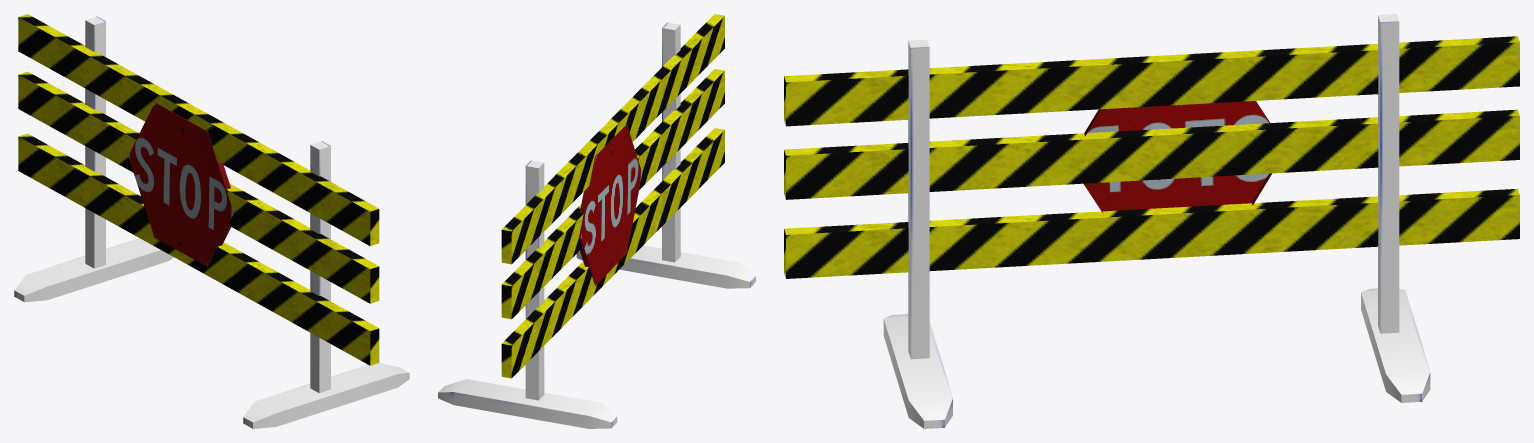
Rendered from road barrier C.FBX.
The picture shows the model from 3 angles, left to right: view 1: azimuth 30°, elevation 25°; view 2: azimuth 150°, elevation 25°; view 3: azimuth 270°, elevation 25°; orthographic projection. The views are drawn at different scales.
Visible parts, largest first — view 1: Box002, Cylinder001; view 2: Box002, Cylinder001; view 3: Box002, Cylinder001.
Boxes of the visible parts, bbox=[...] form: Box002: bbox=[14, 14, 409, 428]; Cylinder001: bbox=[128, 102, 233, 266]; Box002: bbox=[438, 14, 755, 428]; Cylinder001: bbox=[579, 124, 642, 285]; Box002: bbox=[784, 14, 1519, 428]; Cylinder001: bbox=[1083, 101, 1272, 213].
Size of the model in its own units: 14.82 by 17.14 by 34.8.
